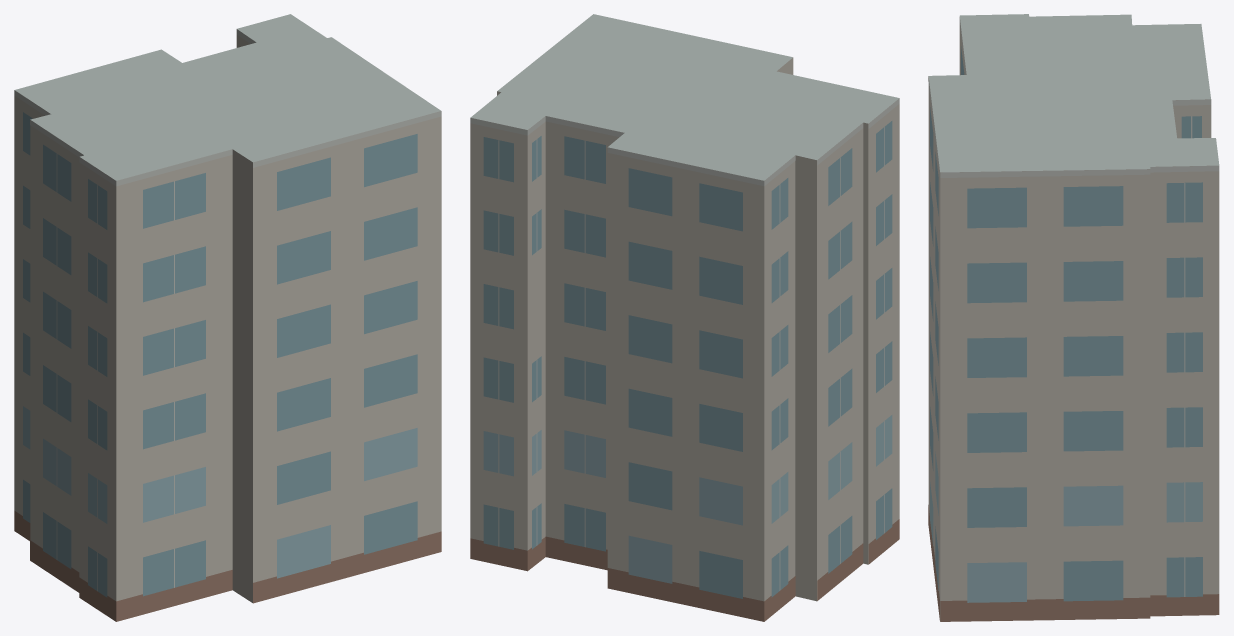
Rendered from survey-upis-32959534.glb.
3 views of the same model, side by side, from view 1: azimuth 30°, elevation 25°; view 2: azimuth 150°, elevation 25°; view 3: azimuth 270°, elevation 25° (orthographic).
Parts seen in each view (by area): view 1: survey-upis-32959534.tmp; view 2: survey-upis-32959534.tmp; view 3: survey-upis-32959534.tmp.
Part boxes in pixels (x1=…): survey-upis-32959534.tmp: x1=14, y1=14, x2=441, y2=621; survey-upis-32959534.tmp: x1=470, y1=14, x2=899, y2=621; survey-upis-32959534.tmp: x1=928, y1=14, x2=1219, y2=621.
Bounding box in the file's own units: 14.68 × 19.4 × 11.39.
